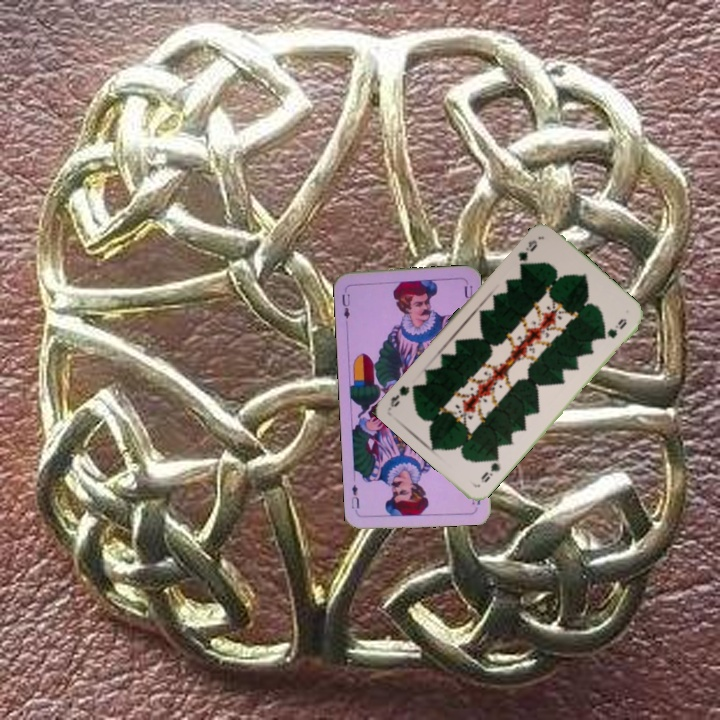EU: (338, 290, 353, 326)
G9: (514, 236, 540, 271), (477, 451, 503, 485)
